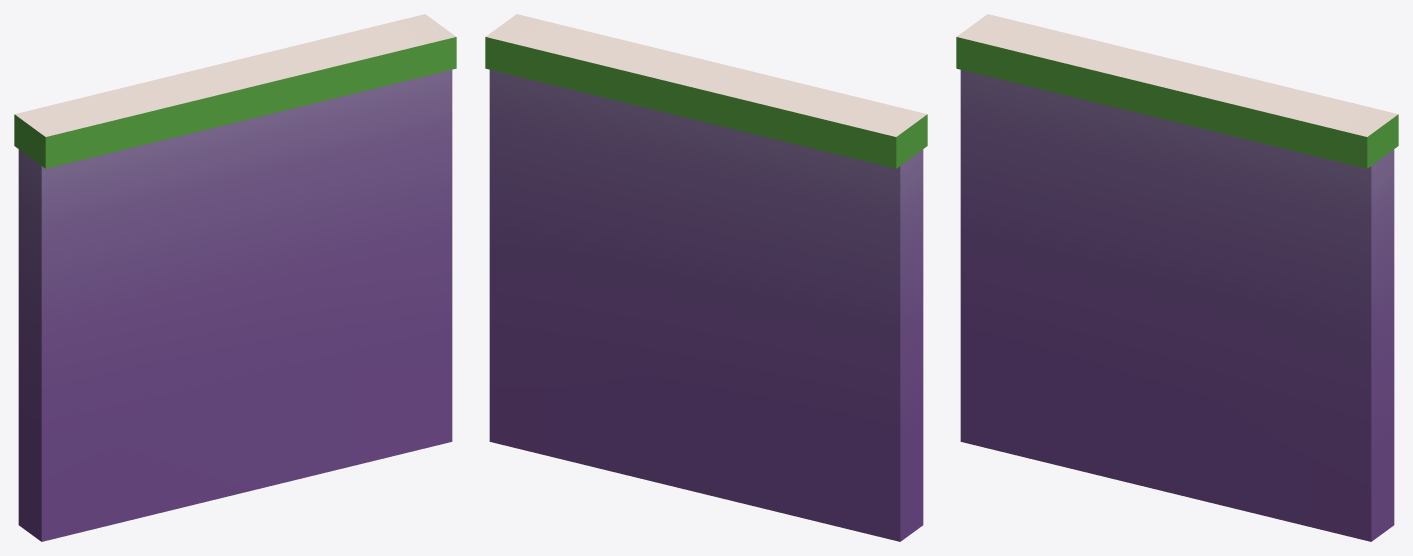
Rendered from M1_Wall_02_2.fbx.
3 renders of one model, left to right at view 1: azimuth 30°, elevation 25°; view 2: azimuth 150°, elevation 25°; view 3: azimuth 330°, elevation 25°, orthographic.
Parts seen in each view (by area): view 1: M1_Wall_02_2; view 2: M1_Wall_02_2; view 3: M1_Wall_02_2.
Part boxes in pixels (x1,y1,x2,y2): M1_Wall_02_2: (14,14,456,541); M1_Wall_02_2: (485,14,927,541); M1_Wall_02_2: (956,14,1398,541).
Size of the model in its own units: 400 by 379 by 52.74.
